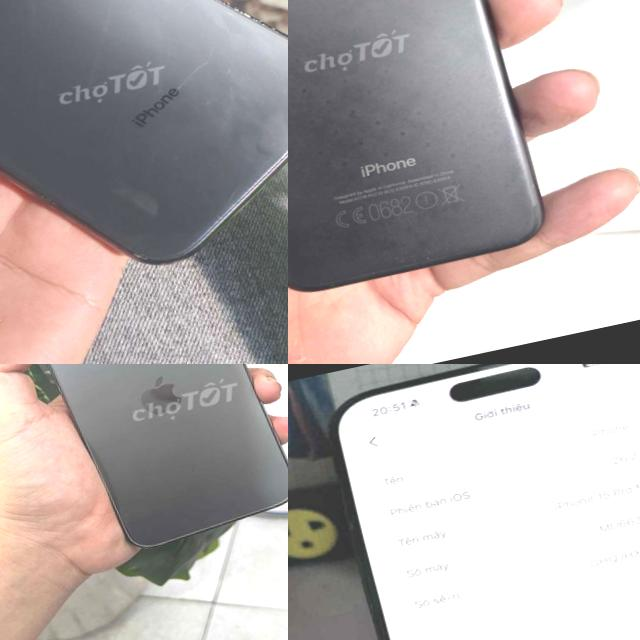scratch: (212, 0, 273, 42), (119, 242, 160, 269)
